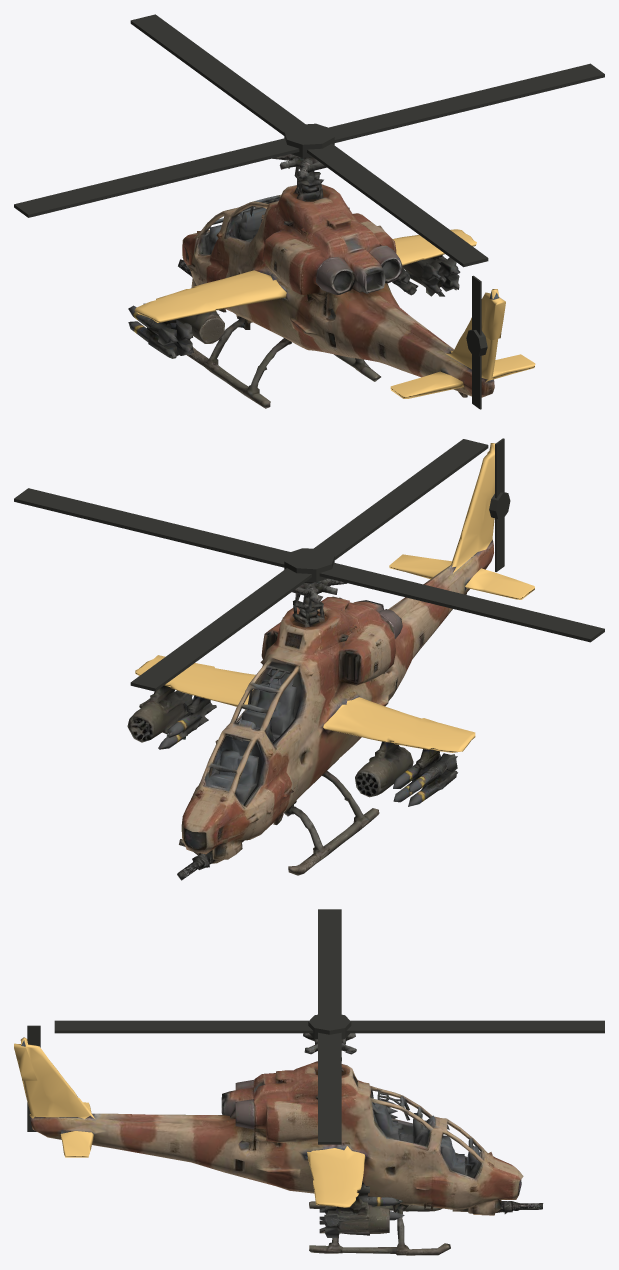
Rendered from gunship.glb.
3 renders of one model, top to bottom at view 1: azimuth 30°, elevation 25°; view 2: azimuth 150°, elevation 25°; view 3: azimuth 270°, elevation 25°, orthographic. The views are drawn at different scales.
Visible parts, largest first — view 1: Model, RotorMain, RotorTail; view 2: Model, RotorMain, RotorTail; view 3: Model, RotorMain.
Part boxes in pixels (<box>): Model: <box>128,154,535,408</box>; RotorMain: <box>14,14,604,267</box>; RotorTail: <box>466,275,487,409</box>; Model: <box>127,443,534,880</box>; RotorMain: <box>14,439,604,691</box>; RotorTail: <box>489,438,510,571</box>; Model: <box>14,1033,543,1255</box>; RotorMain: <box>54,909,604,1144</box>.
Size of the model in its own units: 2.08 by 0.8842 by 2.23.
3 materials, 1 textured.
